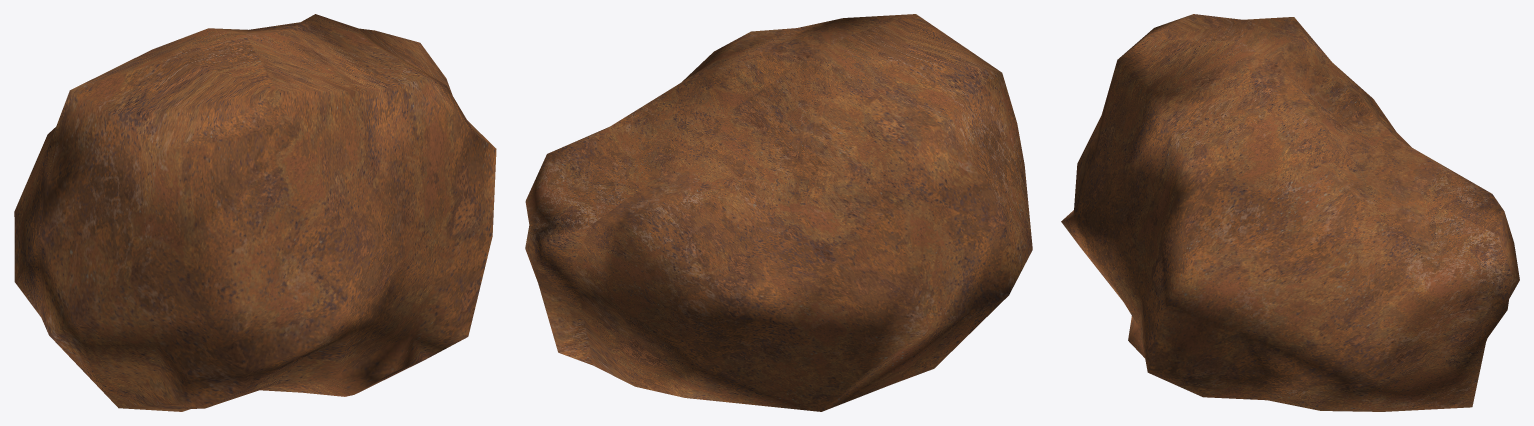
Rendered from asteroid.obj.
The picture shows the model from 3 angles, left to right: view 1: azimuth 30°, elevation 25°; view 2: azimuth 150°, elevation 25°; view 3: azimuth 270°, elevation 25°; orthographic projection. The views are drawn at different scales.
Parts seen in each view (by area): view 1: Asteroid_Model; view 2: Asteroid_Model; view 3: Asteroid_Model.
Boxes of the visible parts, x1,y1,x2,y2 form: Asteroid_Model: [14, 14, 496, 411]; Asteroid_Model: [525, 14, 1032, 411]; Asteroid_Model: [1061, 14, 1519, 411].
Size of the model in its own units: 106 by 79.6 by 103.
1 material, 1 textured.
